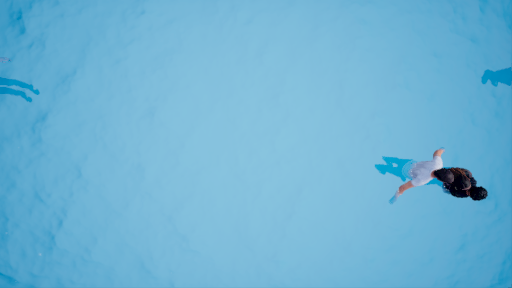person: (371, 136, 454, 191), (451, 159, 490, 207)
